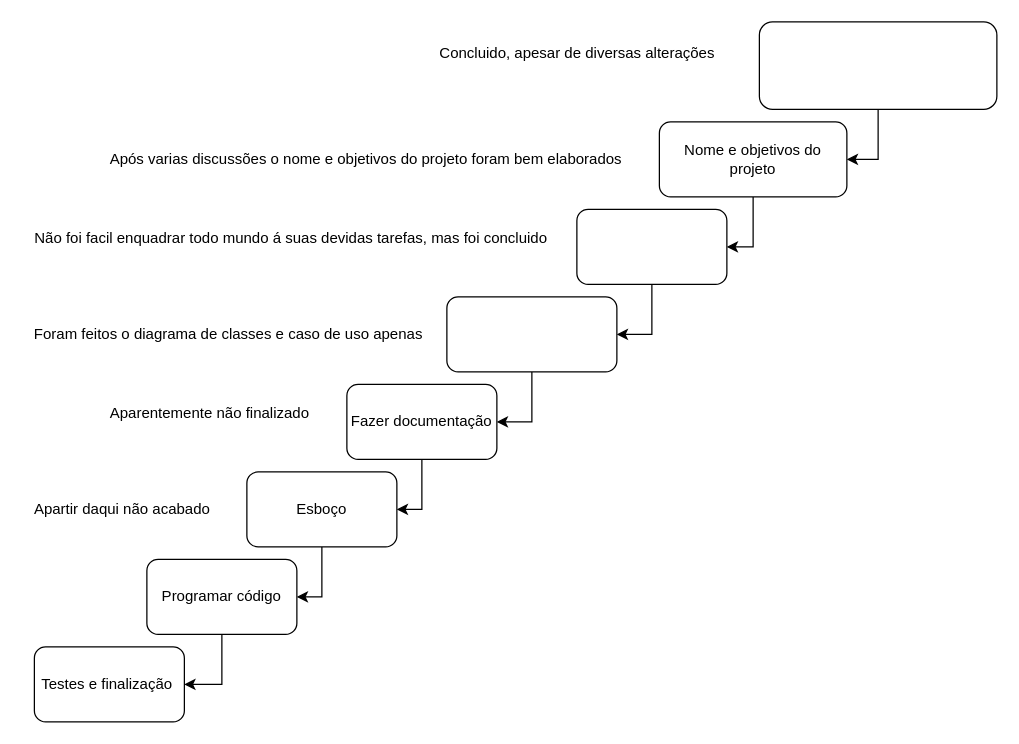
This 1019x744 diagram has some shape labels left out. Here are the shapes that lost their labels. From the top down, the centre of each, then its label:
the point at 877,65: Definição de nome e objetivos da empresa
the point at 651,246: Divisão de tarefas
the point at 531,334: Incrementar diagramas
